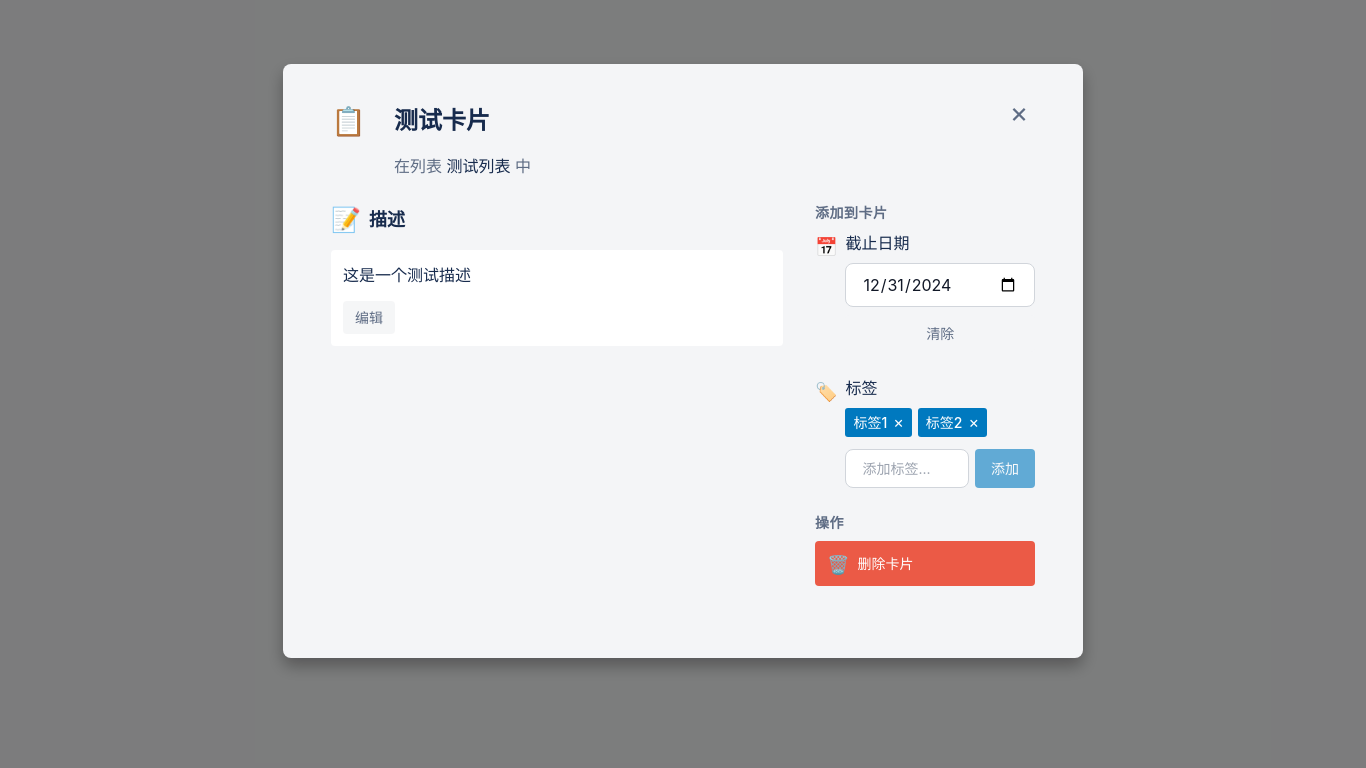
Test: CardDetail.vue › 编辑卡片标题 › 按 Esc 键取消编辑
Click the heading with class "card-title".
click(442, 120)  # box [394, 106, 490, 135]
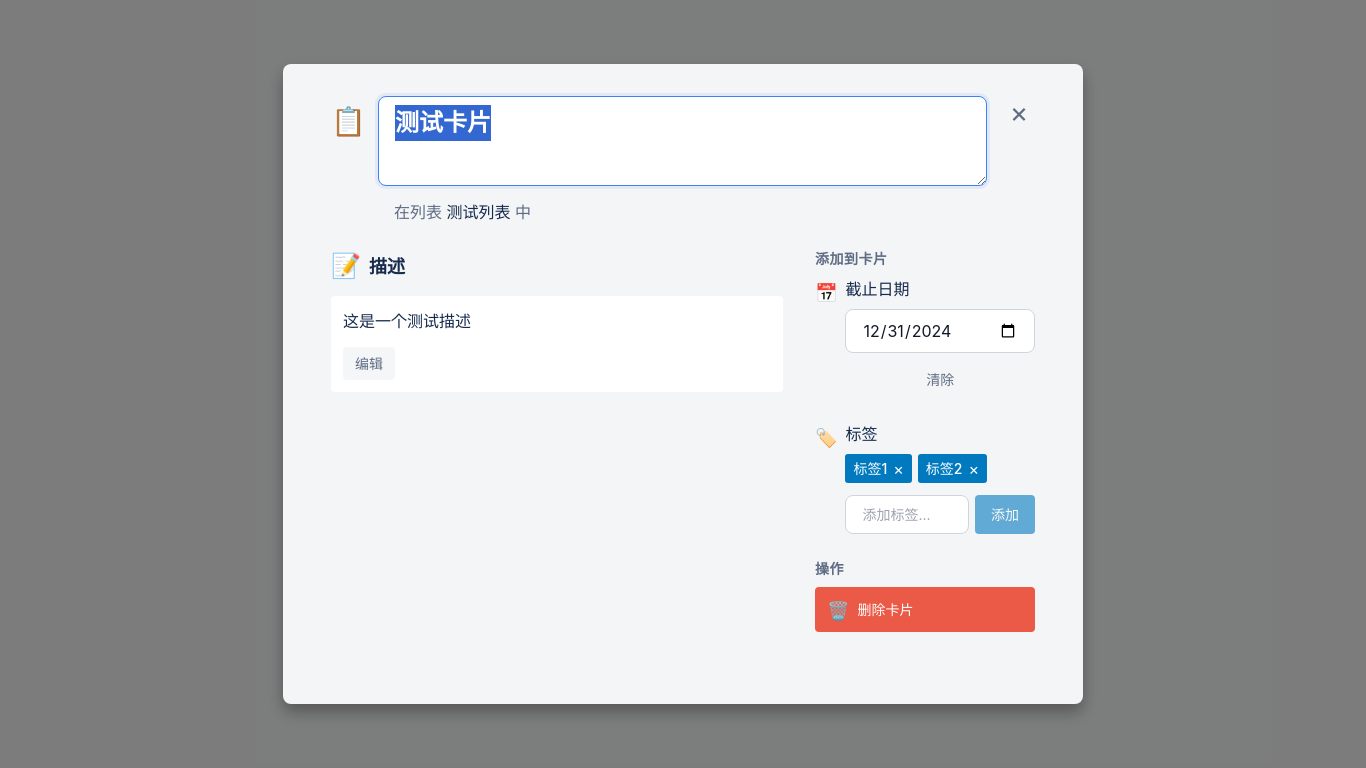
Replace the text in the text box with class "title-input" with "新标题" at (682, 141), box [378, 96, 987, 186]
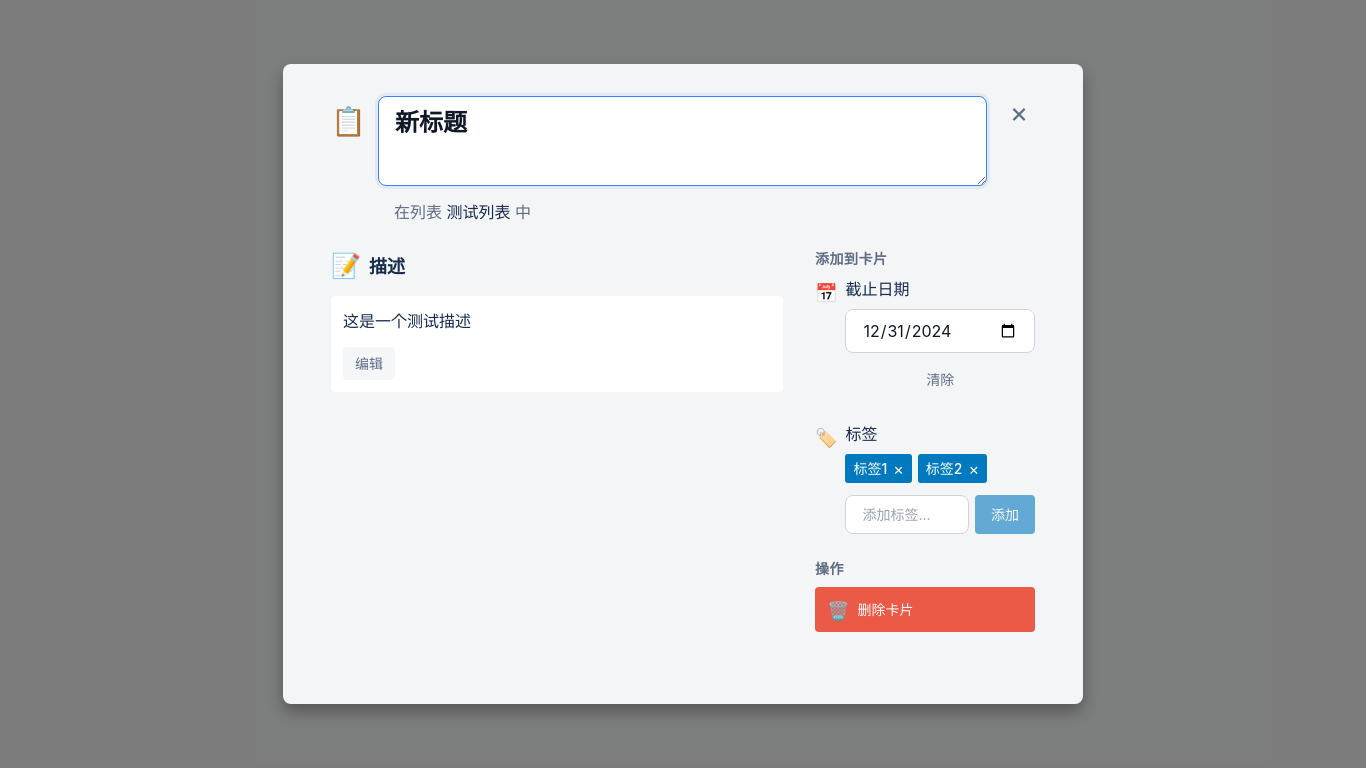
Press Esc in the text box with class "title-input", box [378, 96, 987, 186]
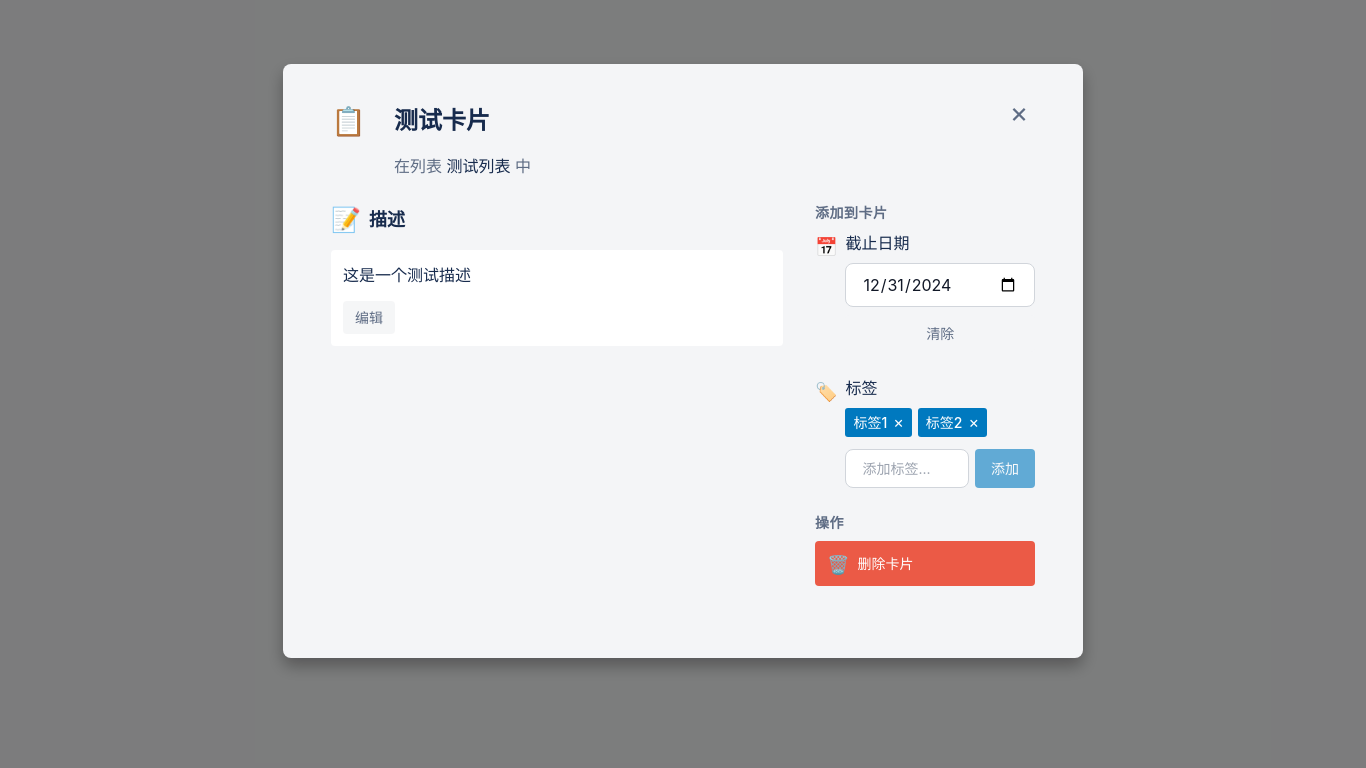
Check: the heading "测试卡片" is shown, box [394, 106, 490, 135]
